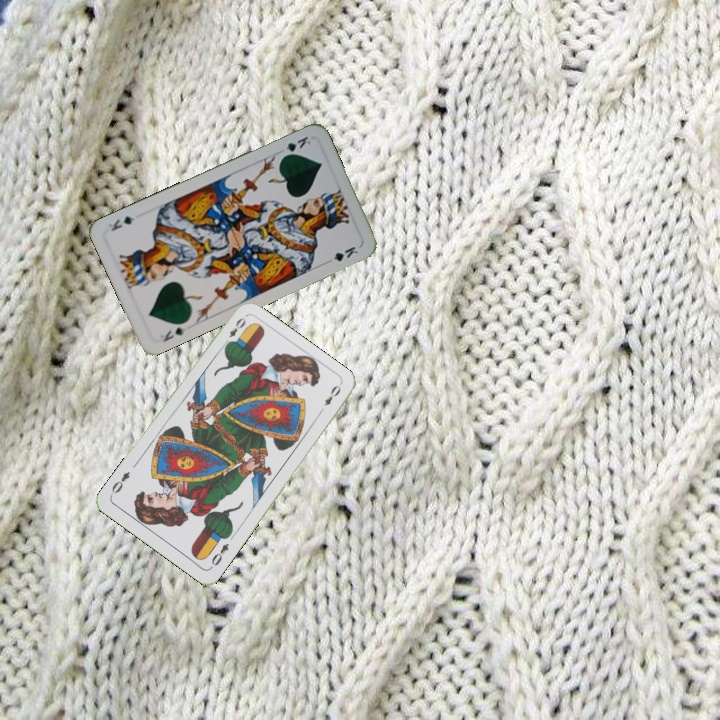EO: (219, 313, 249, 349), (207, 539, 232, 568)
GK: (275, 132, 313, 160), (153, 323, 189, 345)
